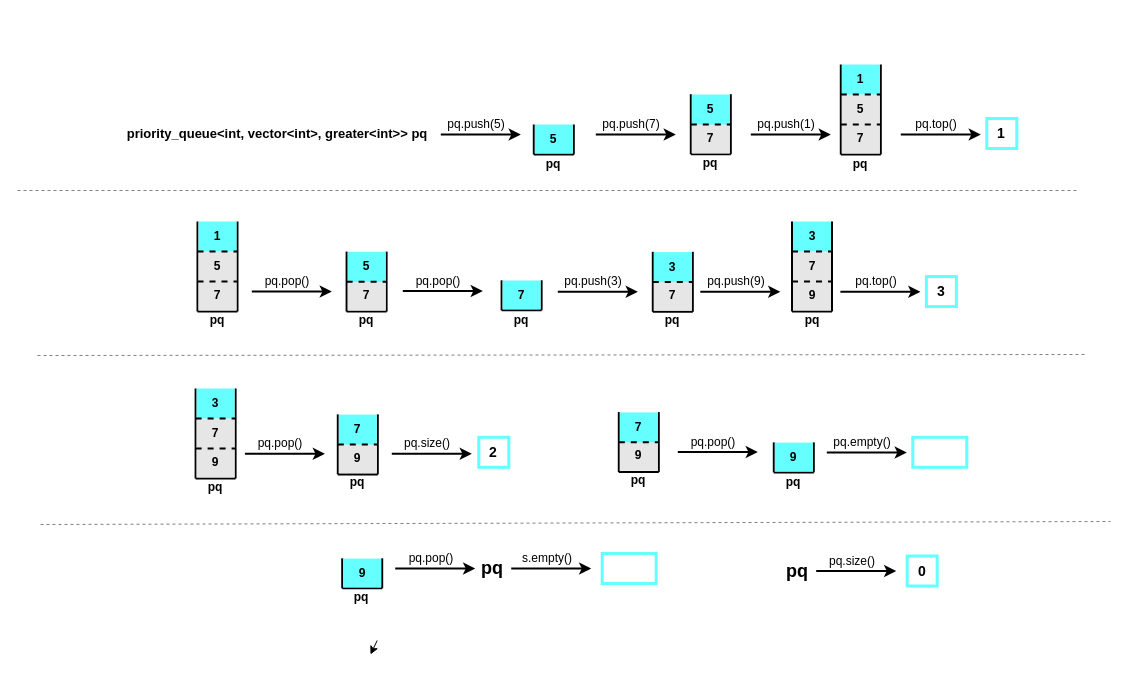
Some shapes in this 1129 by 680 pixel diagram are drawn without their labels. The shapes that lost their labels are listed below. From the top down, each one's box as (x1, y1, x2, y2) in pixels, then its label:
(911, 435, 968, 468): false
(600, 552, 657, 584): true
